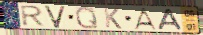A: (157, 8, 184, 31), (132, 8, 158, 31)
K: (102, 7, 123, 30)
Q: (74, 5, 100, 30)
R: (20, 5, 47, 27)
V: (43, 5, 66, 29)
